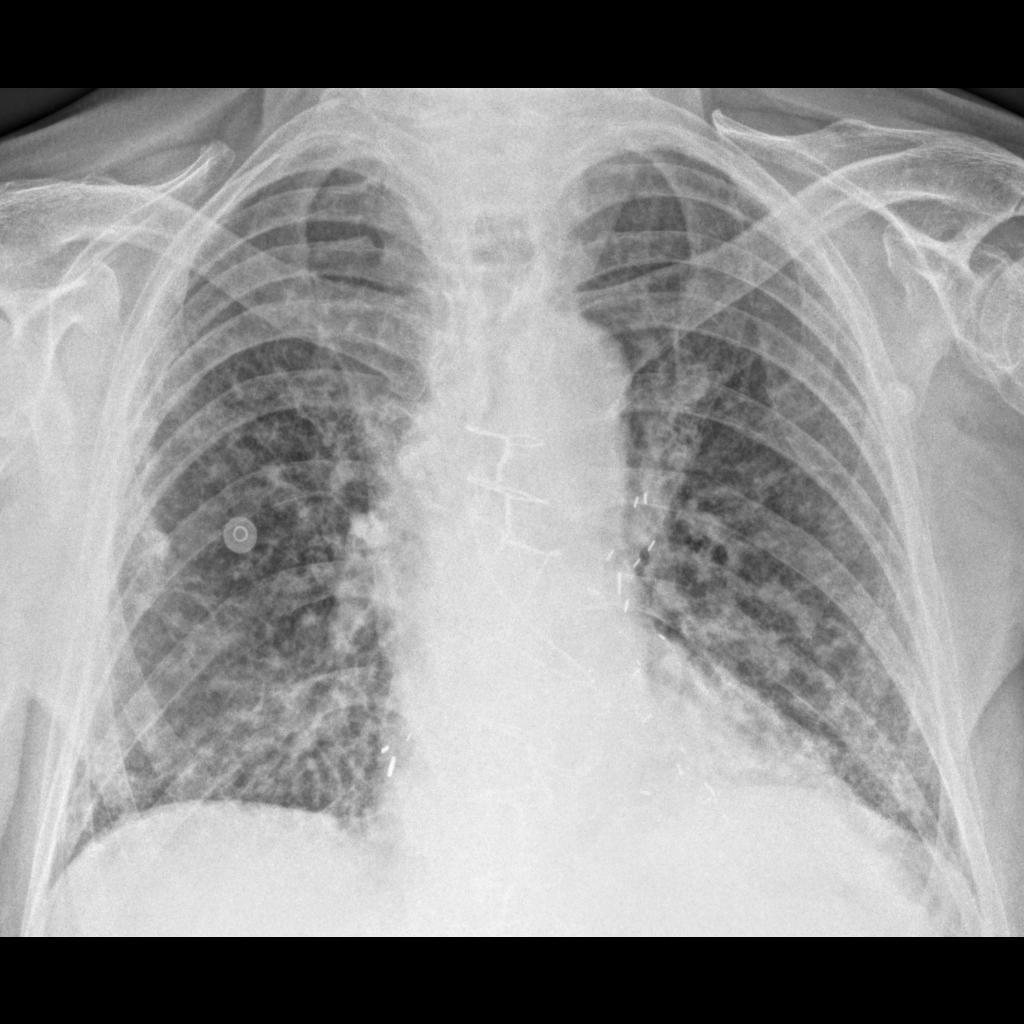Nodule: (132, 518, 185, 567)
